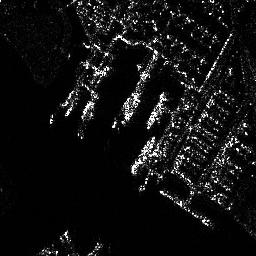ship: (130, 135, 156, 174), (146, 90, 169, 129)
